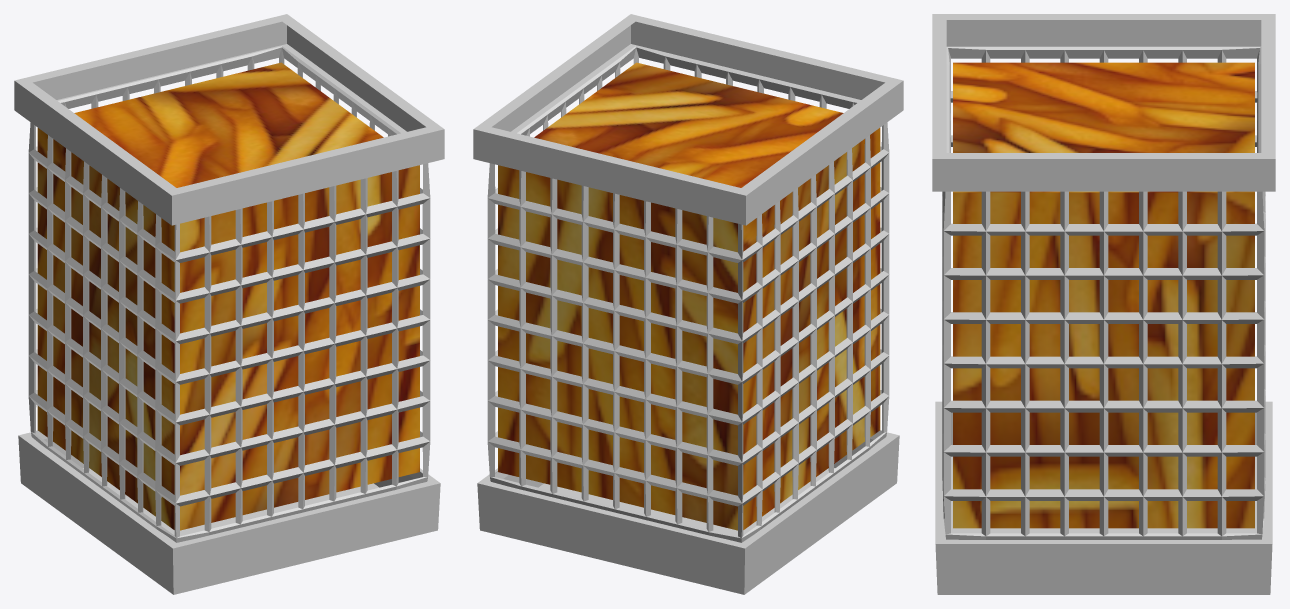
File: Fries 1.fbx
3 renders of one model, left to right at view 1: azimuth 30°, elevation 25°; view 2: azimuth 150°, elevation 25°; view 3: azimuth 270°, elevation 25°, orthographic. The views are drawn at different scales.
Visible parts, largest first — view 1: Cube.001; view 2: Cube.001; view 3: Cube.001.
Part boxes in pixels (x1=…): Cube.001: x1=14, y1=14, x2=444, y2=594; Cube.001: x1=473, y1=14, x2=903, y2=594; Cube.001: x1=932, y1=14, x2=1275, y2=594.
Size of the model in its own units: 119 by 119 by 167.
2 materials, 1 textured.
